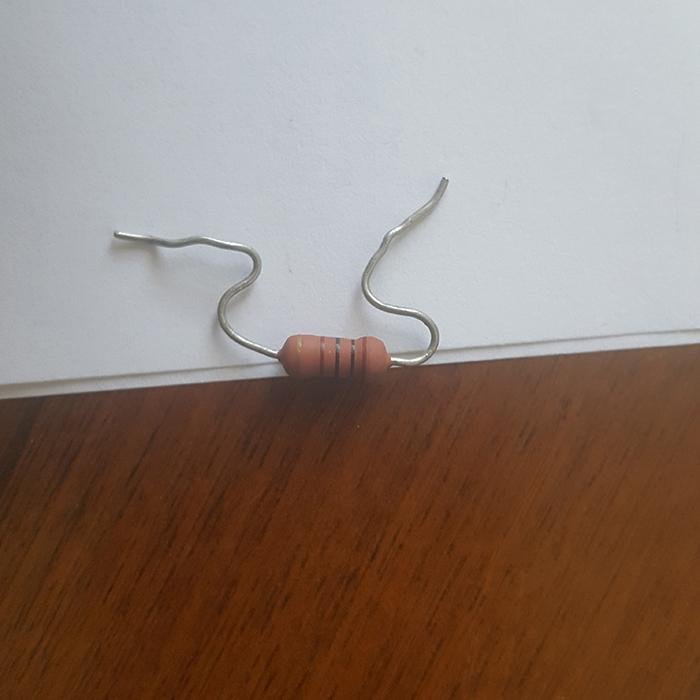resistor: (276, 333, 391, 380)
